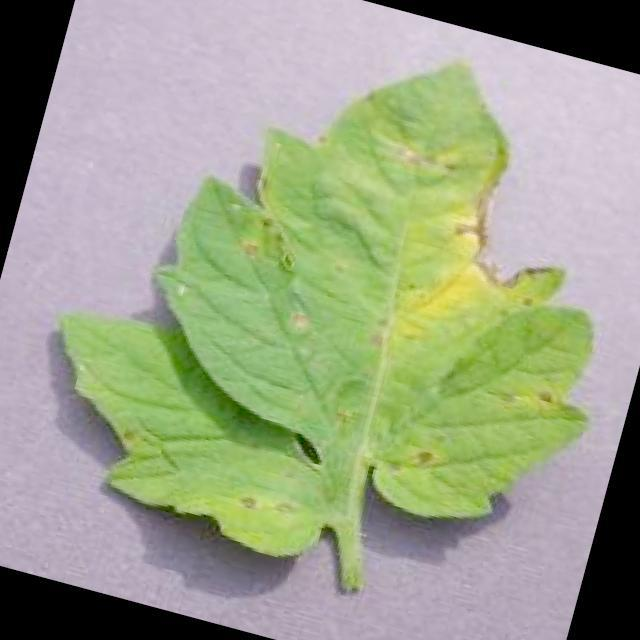Tomato Septoria spot leaf: (16, 0, 640, 626)
